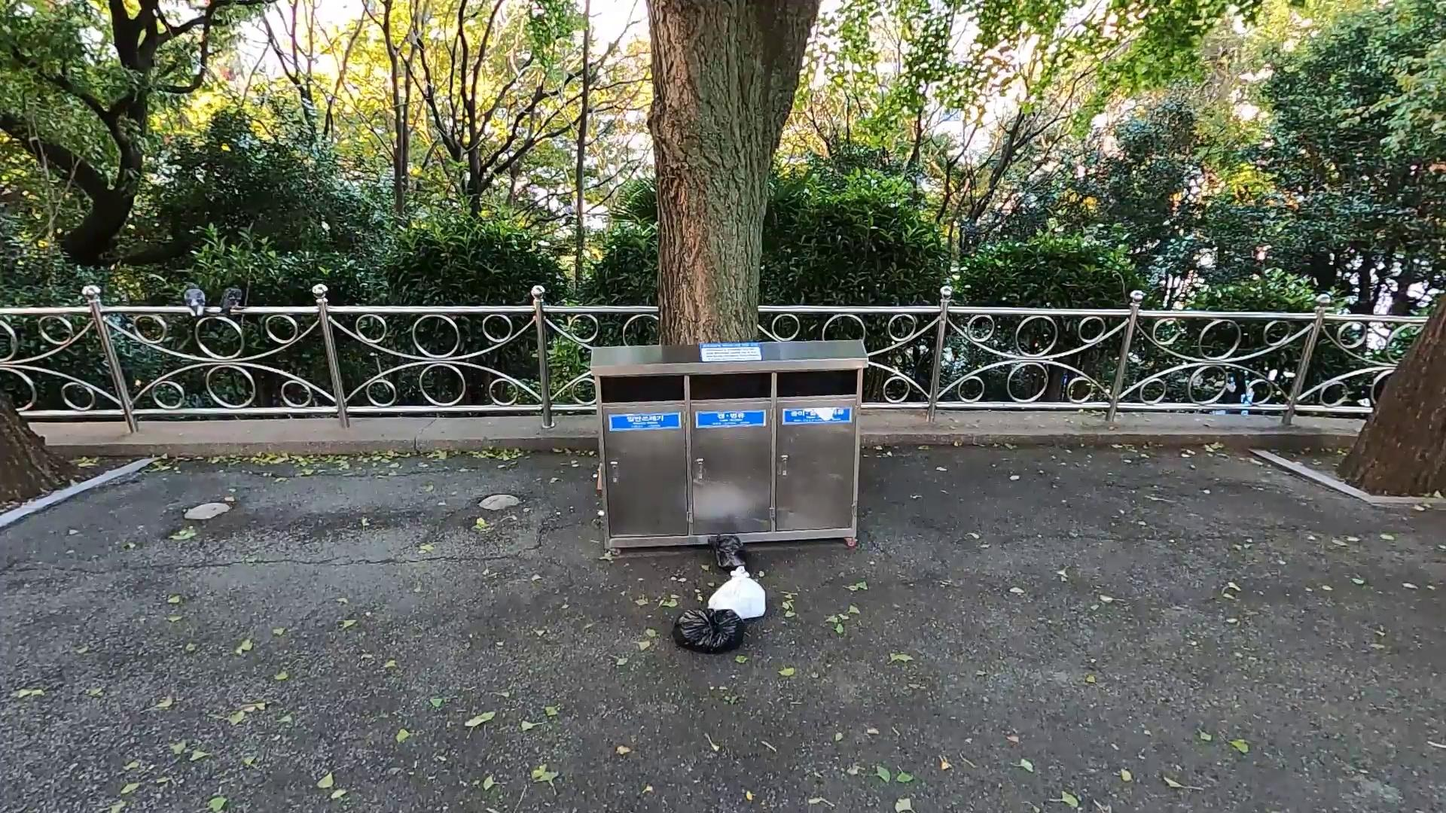trash: (675, 600, 745, 653), (701, 567, 760, 621), (699, 531, 750, 577)
